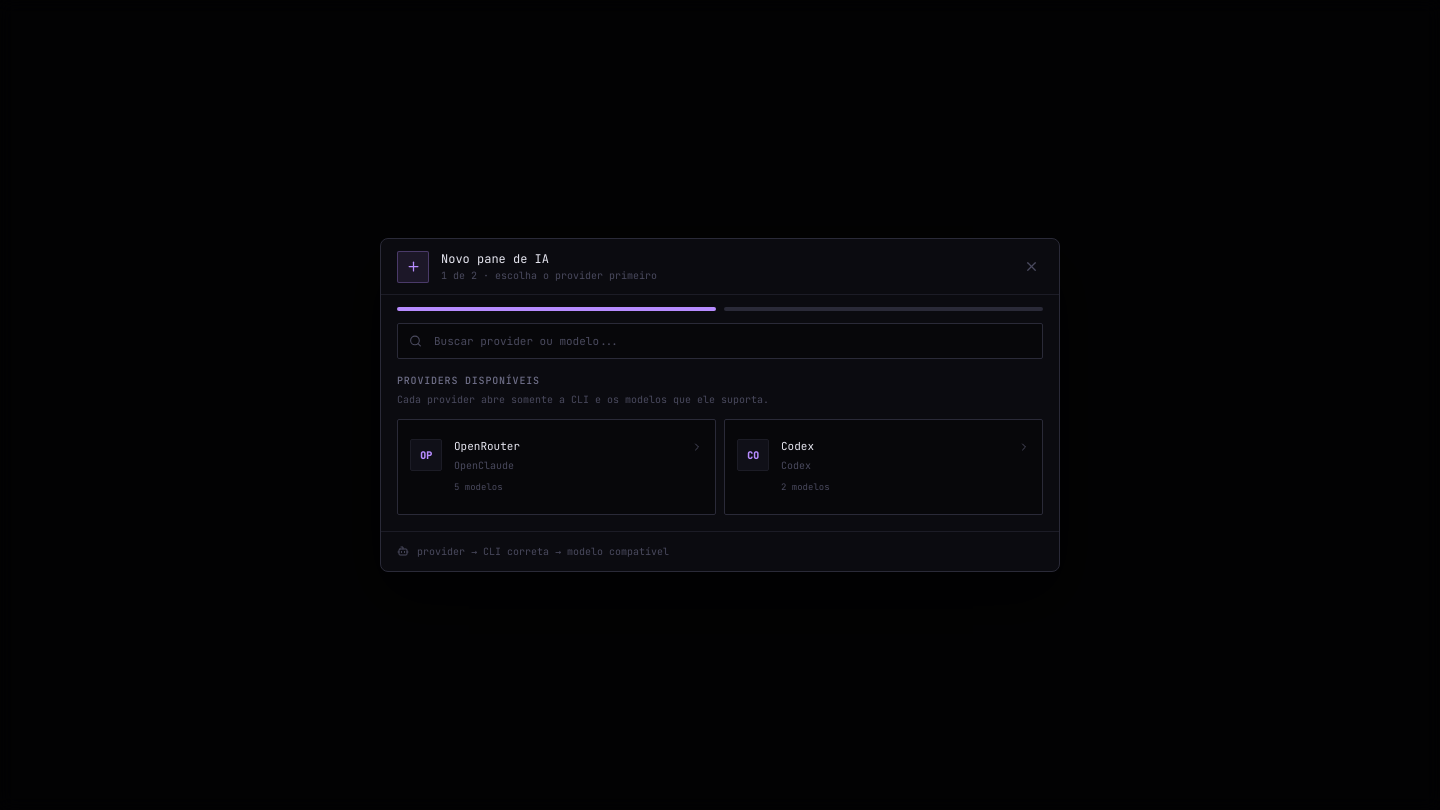
PaneLauncher search › filters the model list once a provider is picked
Click the text "OpenRouter" at (487, 447), box [454, 439, 520, 454]
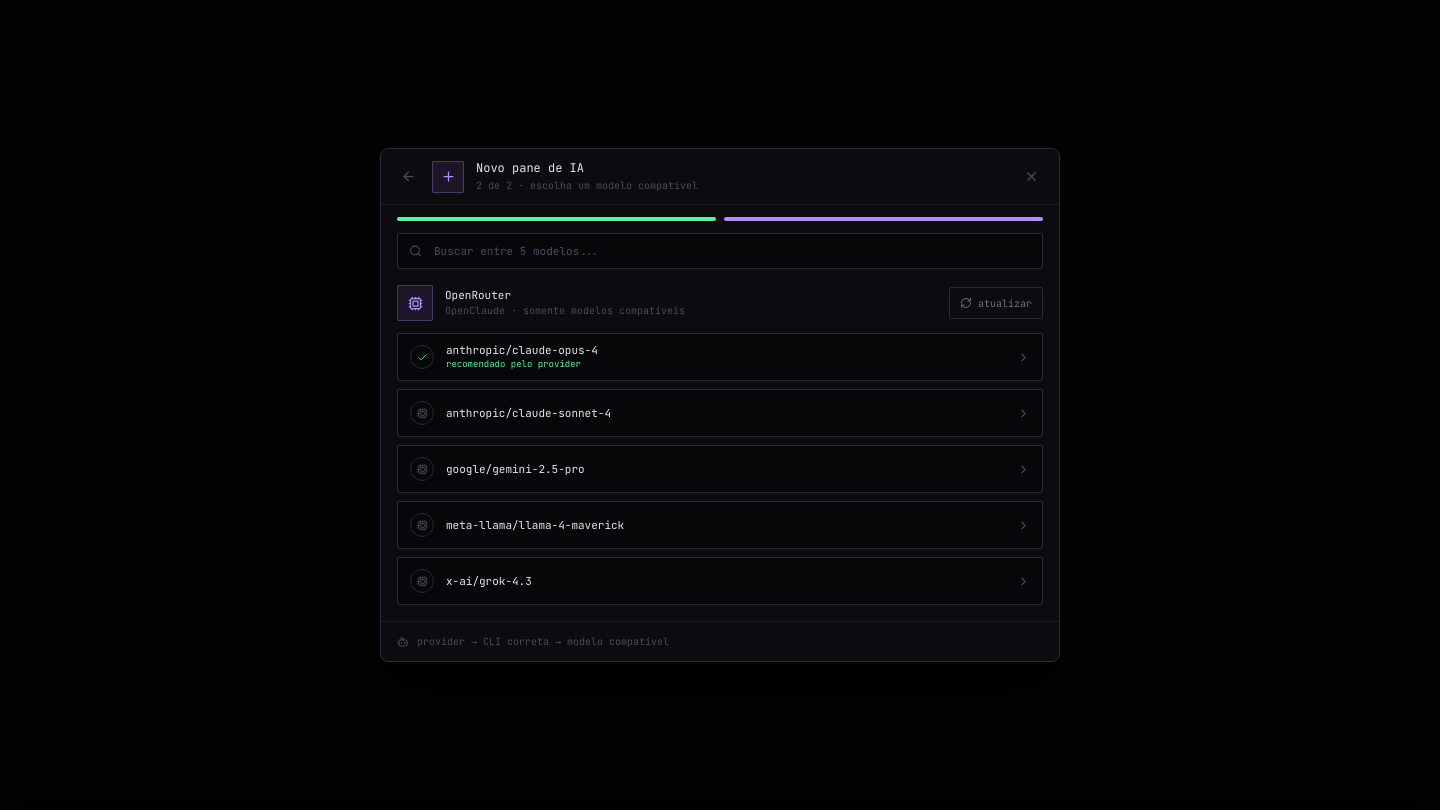
expect the text "anthropic/claude-opus-4" is shown: met, box [446, 343, 598, 357]
expect the text "x-ai/grok-4.3" is shown: met, box [446, 574, 532, 588]
Type "claude opus" into the search field named "Buscar modelo" at (720, 251), box [397, 233, 1043, 269]
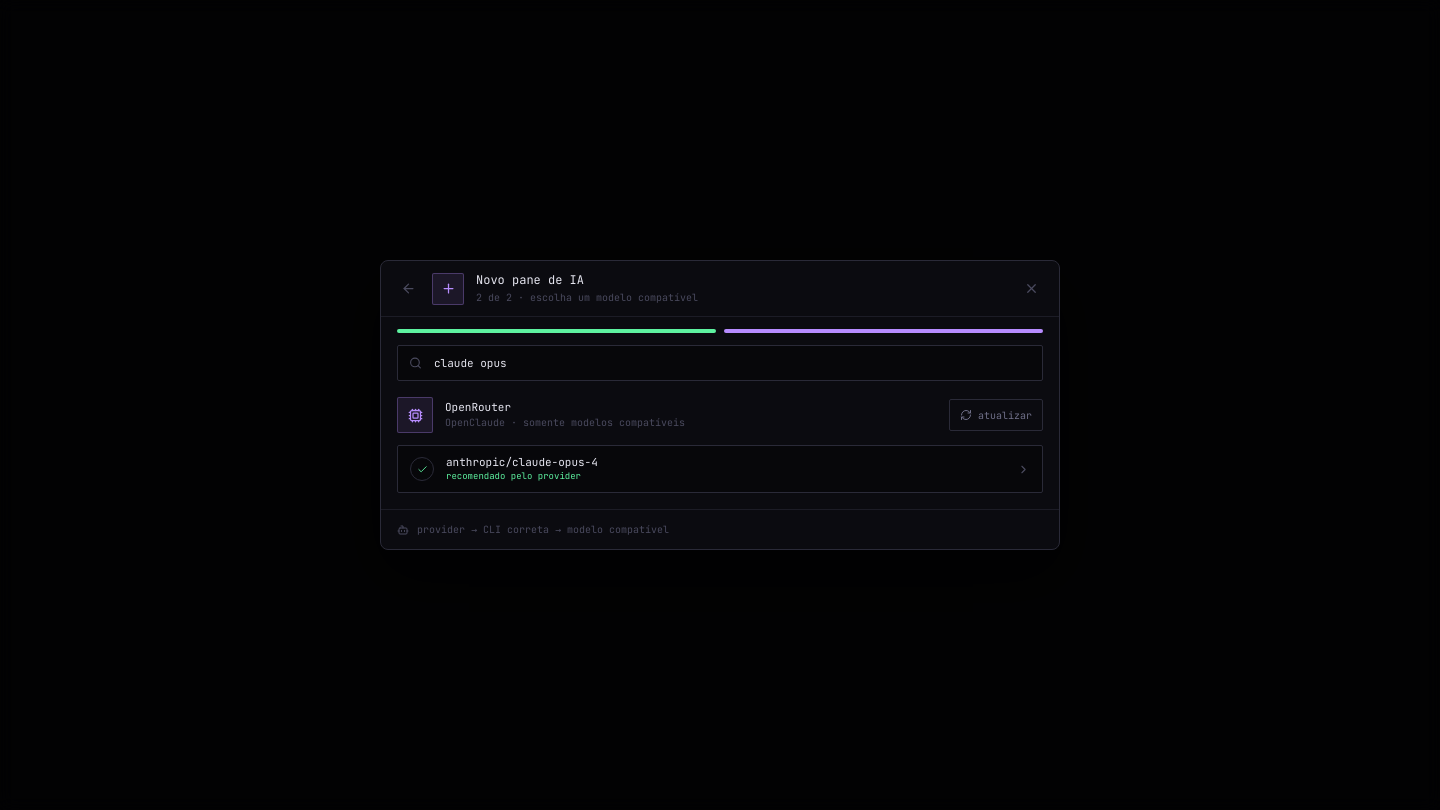
expect the text "anthropic/claude-opus-4" is shown: met, box [446, 455, 598, 469]
expect the button "anthropic/claude-sonnet-4" is gone: met
expect the button "x-ai/grok-4.3" is gone: met
